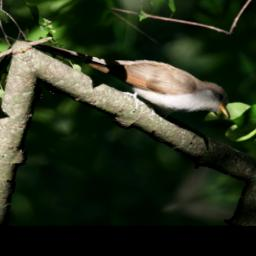Cuckoo: (26, 0, 239, 166)
